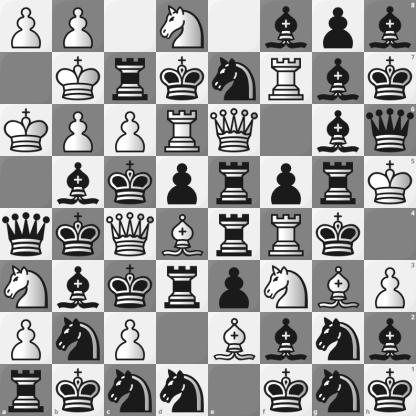B: (157, 209, 208, 260), (209, 313, 260, 364), (313, 261, 364, 312)
K: (364, 156, 416, 209), (1, 105, 52, 156), (53, 53, 104, 104)
N: (1, 261, 52, 312), (157, 1, 208, 52), (261, 261, 312, 312)
P: (364, 260, 416, 312), (1, 1, 52, 52), (1, 313, 52, 364), (53, 1, 104, 52), (53, 105, 104, 156), (105, 105, 156, 156), (105, 313, 156, 364)
Q: (105, 209, 156, 260), (209, 105, 260, 156)
R: (157, 105, 208, 156), (261, 53, 312, 104), (261, 209, 312, 260)
b: (364, 0, 416, 52), (364, 312, 416, 364), (53, 157, 104, 208), (53, 261, 104, 312), (261, 1, 312, 52), (261, 313, 312, 364), (313, 53, 364, 104), (313, 105, 364, 156)
board: (0, 0, 415, 415)
k: (52, 364, 104, 416), (260, 364, 312, 416), (364, 52, 416, 104), (364, 364, 416, 416), (53, 209, 104, 260), (105, 157, 156, 208), (105, 261, 156, 312), (157, 53, 208, 104), (313, 209, 364, 260)
n: (156, 364, 209, 416), (104, 364, 156, 416), (312, 364, 364, 416), (53, 313, 104, 364), (209, 53, 260, 104), (313, 313, 364, 364)
p: (157, 157, 208, 208), (209, 261, 260, 312), (261, 157, 312, 208), (313, 1, 364, 52)
q: (364, 104, 416, 156), (1, 209, 52, 260)
r: (0, 364, 52, 416), (105, 53, 156, 104), (157, 261, 208, 312), (209, 157, 260, 208), (209, 209, 260, 260), (313, 157, 364, 208)
